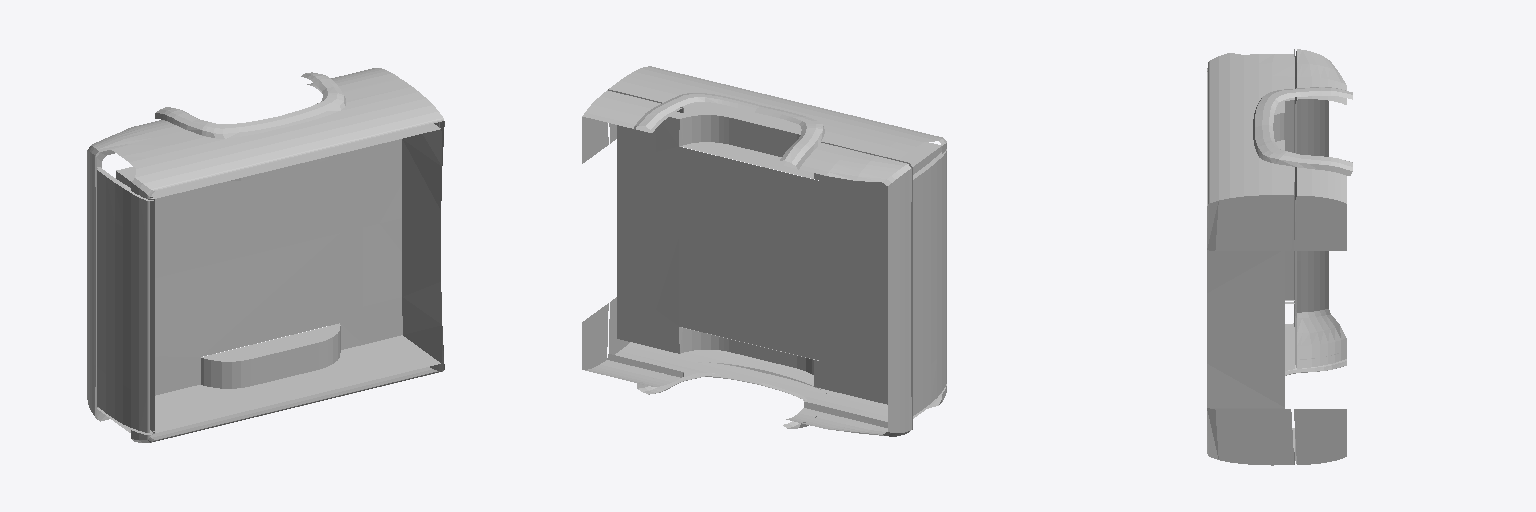
Rendered from body.obj.
3 views of the same model, side by side, from view 1: azimuth 30°, elevation 25°; view 2: azimuth 150°, elevation 25°; view 3: azimuth 270°, elevation 25° (orthographic).
Parts seen in each view (by area): view 1: Object06, Object54; view 2: Object06, Object54, Object55; view 3: Object06, Object54.
Boxes of the visible parts, x1,y1,x2,y2 form: Object06: [87, 68, 444, 442]; Object54: [155, 72, 345, 138]; Object06: [582, 66, 946, 436]; Object54: [634, 93, 824, 169]; Object55: [637, 362, 826, 428]; Object06: [1207, 49, 1346, 465]; Object54: [1253, 87, 1352, 175].
Bounding box in the file's own units: 2.27 × 2.02 × 0.9445.